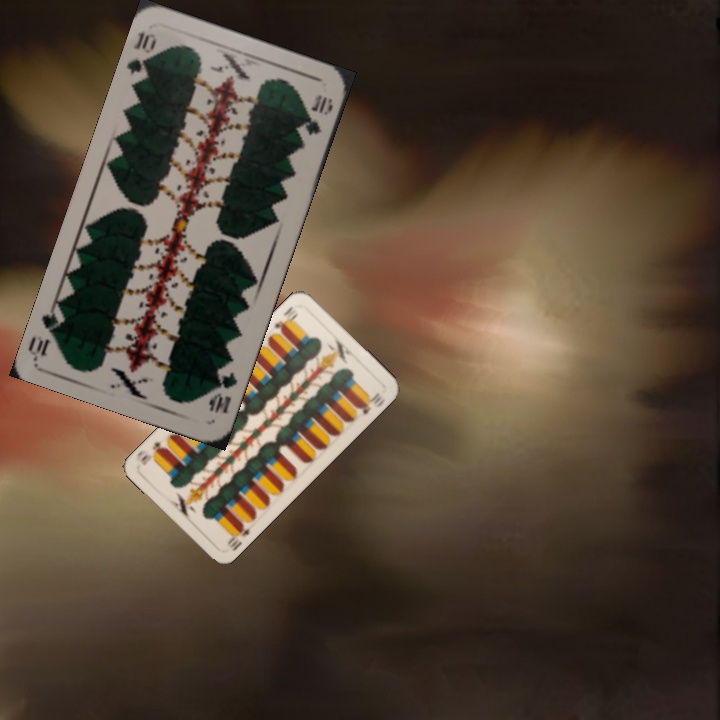E10: (223, 519, 253, 553), (270, 302, 300, 335)
G10: (123, 26, 160, 85), (204, 367, 240, 417)
